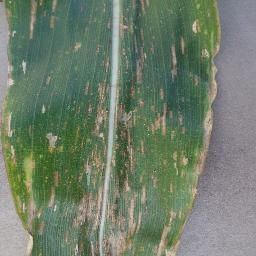Gray_Leaf_Spot: (0, 150, 44, 243), (154, 130, 210, 183), (102, 164, 145, 224), (116, 60, 148, 132), (116, 0, 148, 63), (183, 0, 224, 41), (63, 157, 104, 197), (147, 101, 191, 135), (102, 222, 142, 256), (74, 119, 106, 161), (111, 131, 146, 169), (85, 75, 110, 124), (163, 180, 202, 210), (0, 79, 17, 147), (199, 86, 218, 144), (56, 231, 100, 256), (79, 0, 112, 32), (71, 194, 101, 229), (40, 126, 73, 157), (39, 160, 58, 212), (152, 231, 189, 256), (17, 0, 39, 42), (188, 71, 225, 95), (198, 43, 227, 71), (3, 1, 17, 56), (35, 0, 58, 33), (163, 208, 194, 230), (0, 60, 33, 79), (168, 34, 179, 87), (97, 39, 114, 60), (36, 70, 61, 84), (154, 83, 168, 108), (92, 60, 113, 74), (35, 98, 51, 116), (67, 40, 88, 53), (179, 35, 189, 62), (68, 99, 83, 115), (25, 121, 33, 139), (146, 37, 156, 51), (169, 9, 174, 19), (35, 251, 44, 256)
